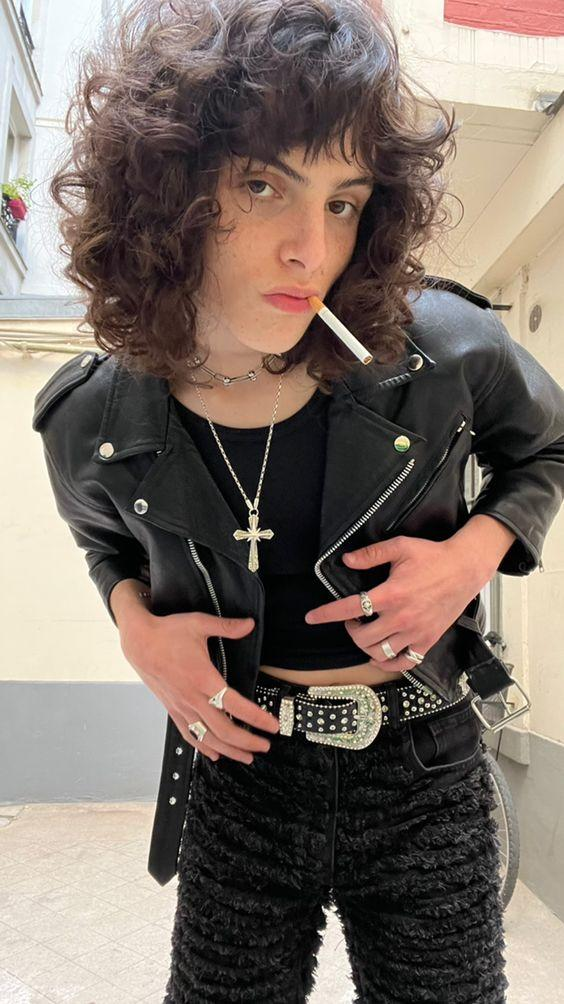cigarette: (306, 294, 373, 366)
